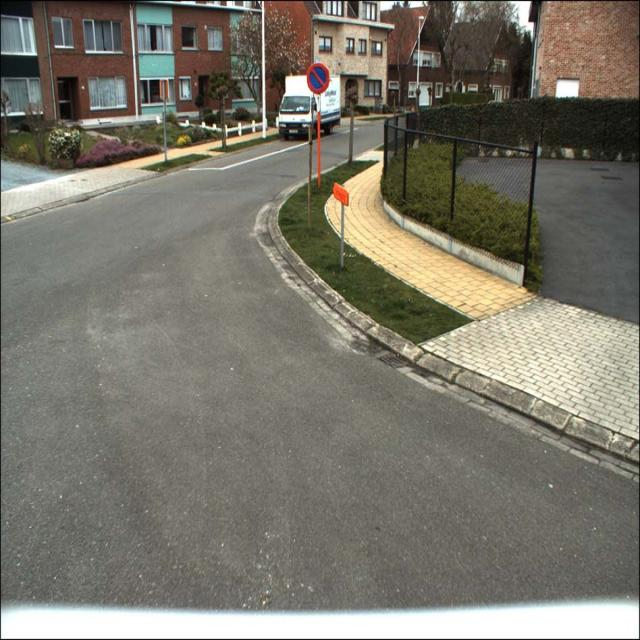parkyasak: (307, 63, 329, 93)
